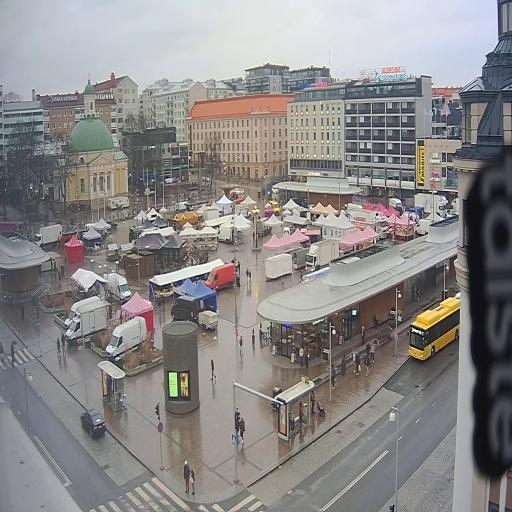bus: (408, 297, 460, 360)
car: (81, 410, 106, 438)
delivery: (65, 301, 109, 344), (106, 317, 147, 361), (65, 296, 100, 329), (306, 239, 339, 270), (414, 192, 449, 218), (206, 263, 235, 291), (171, 295, 200, 323), (106, 273, 131, 303), (35, 225, 62, 246), (219, 223, 232, 242)
